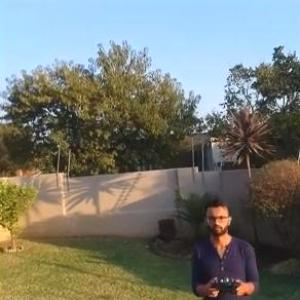follow: (185, 192, 260, 299)
